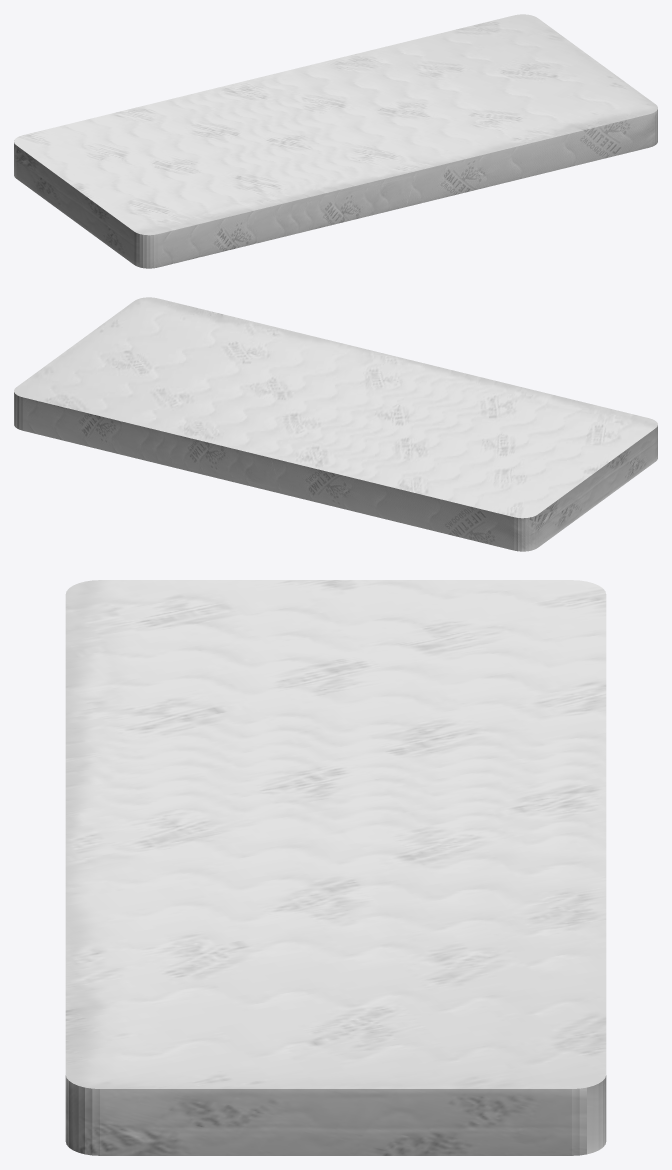
The picture shows the model from 3 angles, top to bottom: view 1: azimuth 30°, elevation 25°; view 2: azimuth 150°, elevation 25°; view 3: azimuth 270°, elevation 25°; orthographic projection. The views are drawn at different scales.
Parts seen in each view (by area): view 1: map01; view 2: map01; view 3: map01.
Boxes of the visible parts, x1,y1,x2,y2 form: map01: [14, 14, 657, 268]; map01: [14, 297, 657, 551]; map01: [65, 580, 606, 1155].
Bounding box in the file's own units: 1.96 × 0.12 × 0.88.
Materials: 1 (1 with a texture image).
